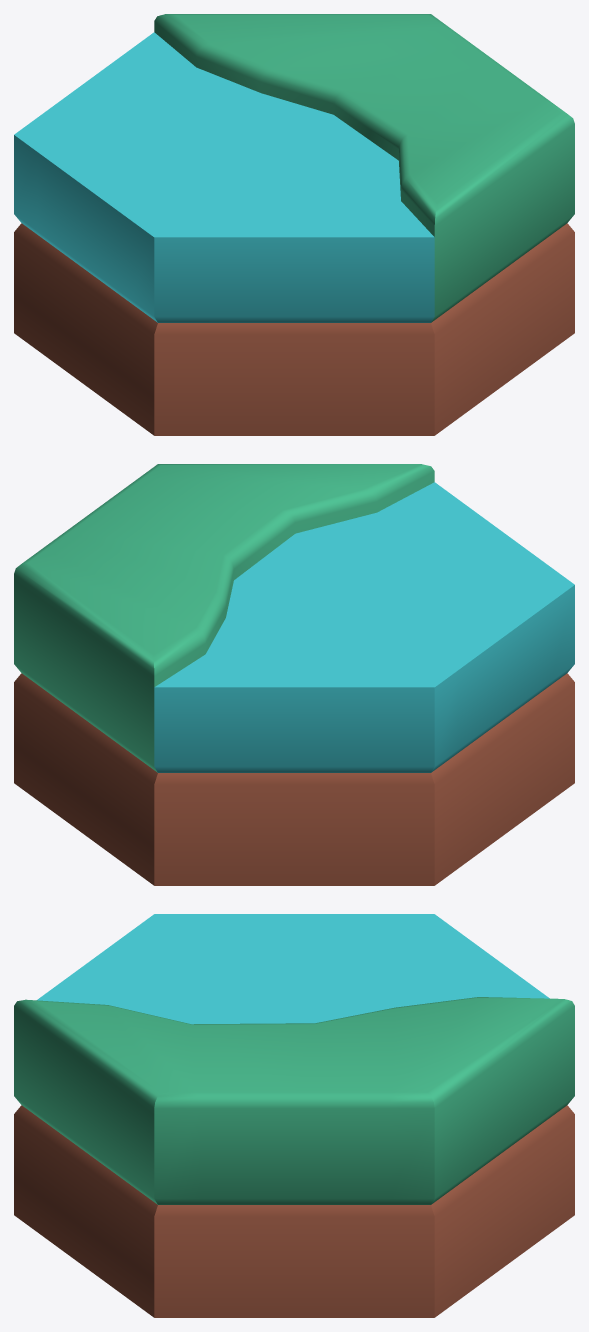
Rendered from hex_forest_waterC_detail.glb.
3 views of the same model, one above another, from view 1: azimuth 30°, elevation 25°; view 2: azimuth 150°, elevation 25°; view 3: azimuth 270°, elevation 25° (orthographic).
Parts seen in each view (by area): view 1: hex_forest_waterC_detail; view 2: hex_forest_waterC_detail; view 3: hex_forest_waterC_detail.
Part boxes in pixels (x1,y1,x2,y2): hex_forest_waterC_detail: (14, 14, 574, 435); hex_forest_waterC_detail: (14, 464, 574, 885); hex_forest_waterC_detail: (14, 914, 574, 1317).
Size of the model in its own units: 3.82 by 1.91 by 4.41.
